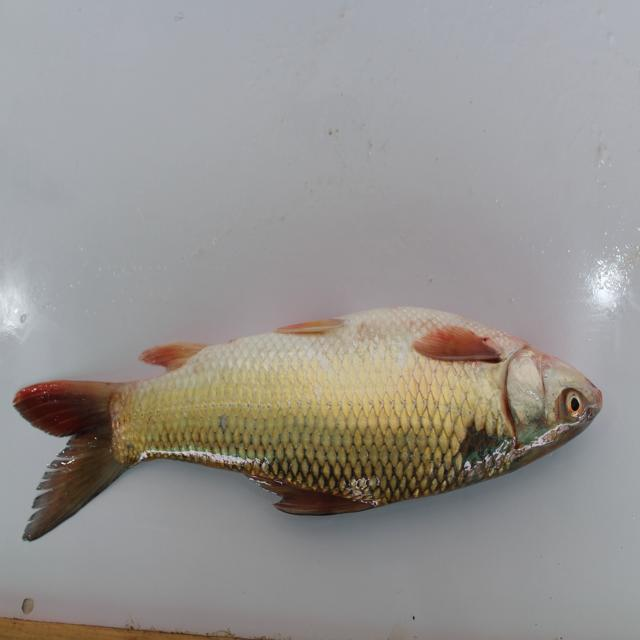Mori: (10, 302, 602, 550)
